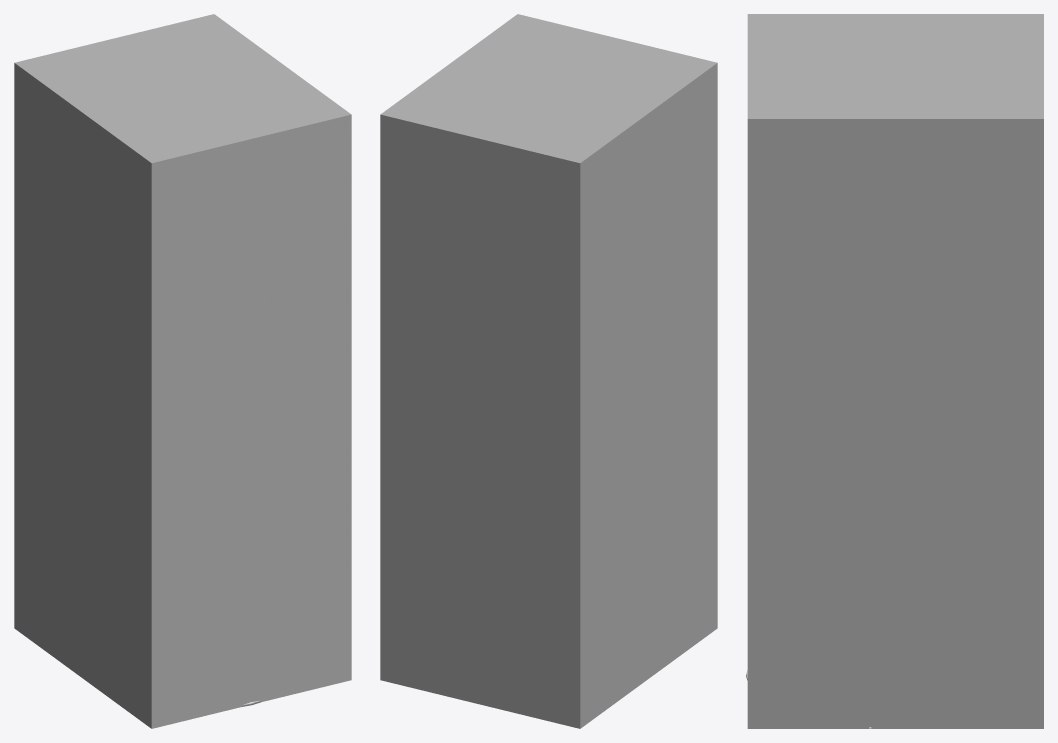
The model's file is biella_ho17412.glb.
3 renders of one model, left to right at view 1: azimuth 30°, elevation 25°; view 2: azimuth 150°, elevation 25°; view 3: azimuth 270°, elevation 25°, orthographic. The views are drawn at different scales.
Parts seen in each view (by area): view 1: Box01; view 2: Box01; view 3: Box01.
Boxes of the visible parts, x1,y1,x2,y2 form: Box01: (14,14,351,728); Box01: (380,14,717,728); Box01: (747,14,1043,728).
Size of the model in its own units: 0.37 by 1 by 0.4425.
2 materials, 1 textured.
